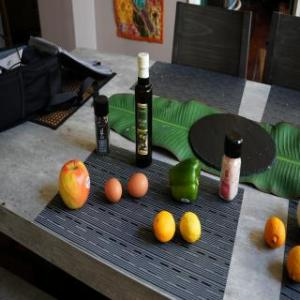bell_pepper: (168, 157, 200, 203)
egg: (125, 172, 153, 200), (102, 174, 124, 204)
